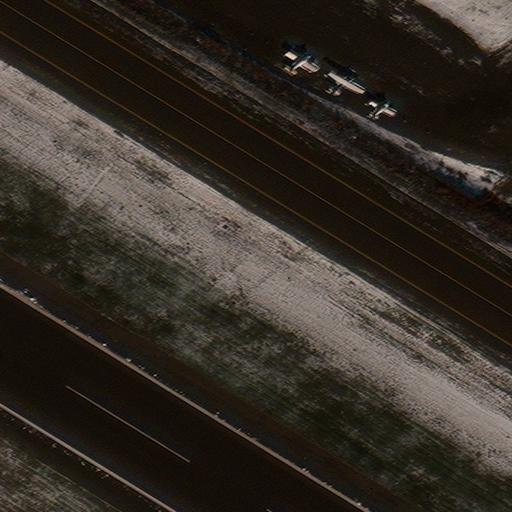Small Civil Transport: (330, 70, 365, 94), (288, 50, 320, 73), (369, 99, 398, 119)
